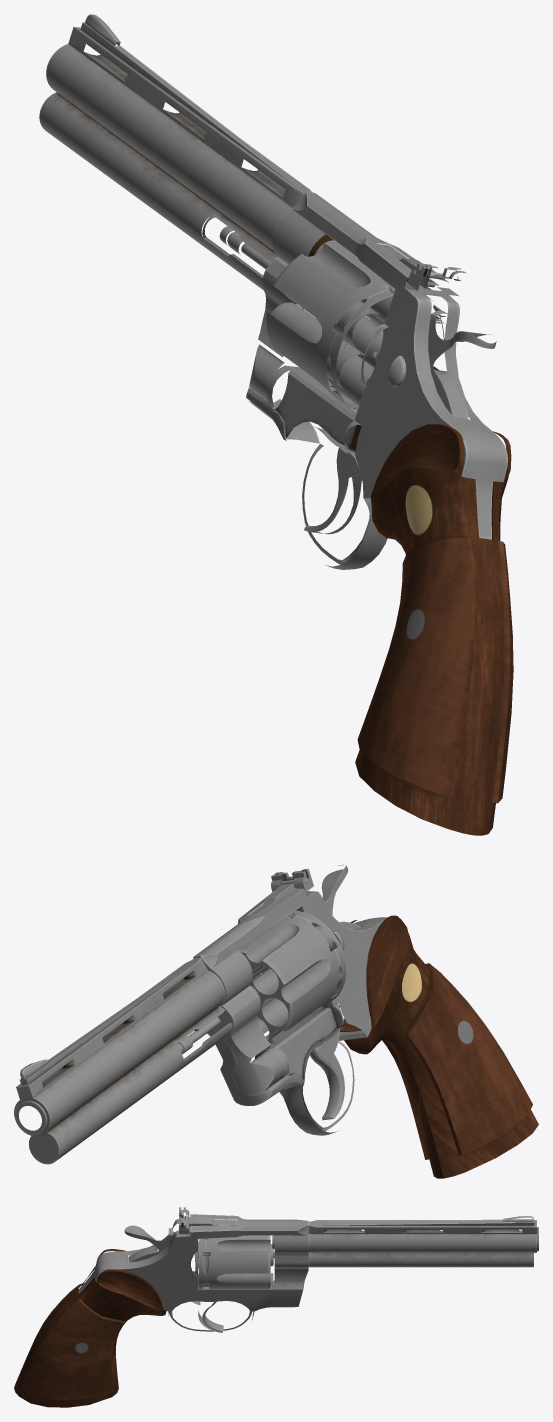
File: zz_revolver.glb
3 renders of one model, top to bottom at view 1: azimuth 30°, elevation 25°; view 2: azimuth 150°, elevation 25°; view 3: azimuth 270°, elevation 25°, orthographic. The views are drawn at different scales.
Visible parts, largest first — view 1: zz_revolver; view 2: zz_revolver; view 3: zz_revolver.
Boxes of the visible parts, x1,y1,x2,y2 form: zz_revolver: (39,14,513,835); zz_revolver: (14,864,538,1178); zz_revolver: (14,1207,538,1407).
Size of the model in its own units: 0.0648 by 0.1281 by 0.28.
Materials: 1 (1 with a texture image).
